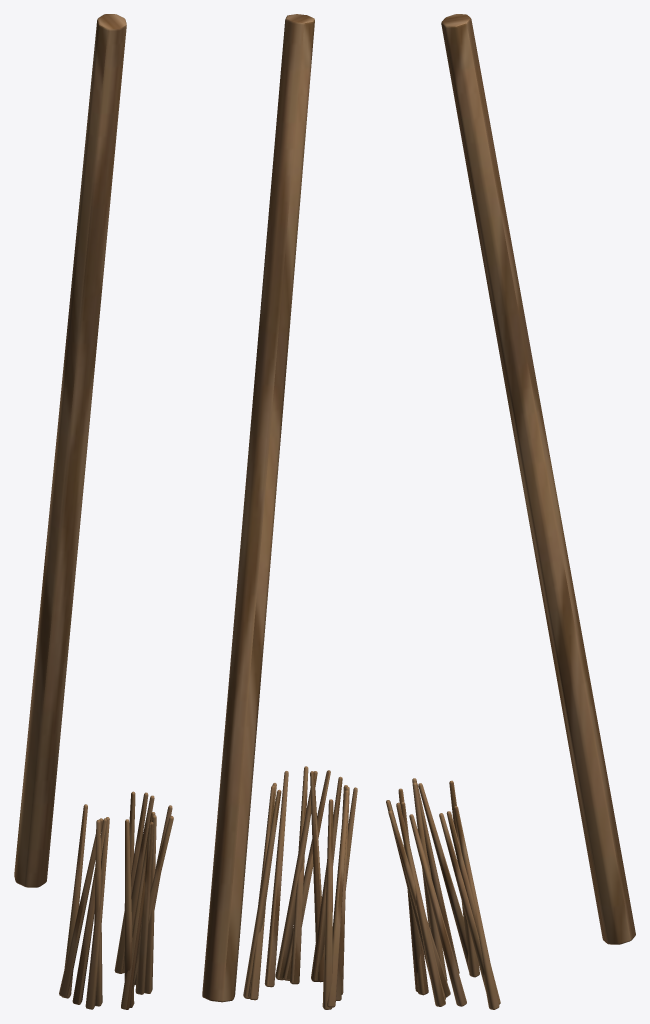
File: p_broom.glb
The picture shows the model from 3 angles, left to right: view 1: azimuth 30°, elevation 25°; view 2: azimuth 150°, elevation 25°; view 3: azimuth 270°, elevation 25°; orthographic projection.
Visible parts, largest first — view 1: broom; view 2: broom; view 3: broom.
Boxes of the visible parts, <box> form: broom: <box>14,14,173,1009</box>; broom: <box>202,14,357,1009</box>; broom: <box>386,14,635,1009</box>.
Size of the model in its own units: 0.1198 by 1.36 by 0.3164.
1 material, 1 textured.
